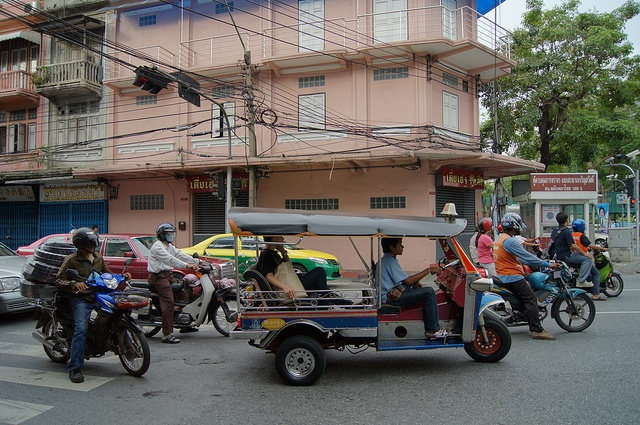non-vehicle: (26, 257, 152, 376), (127, 250, 238, 337), (487, 259, 594, 332), (567, 246, 624, 297)
